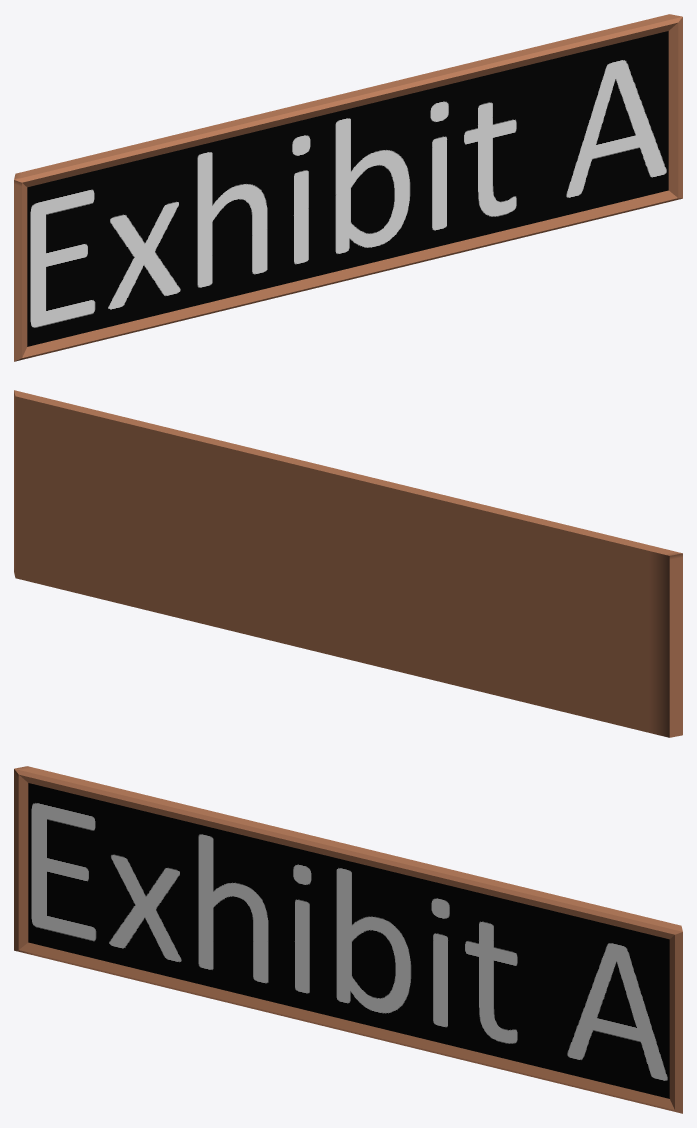
Rendered from wallSign.fbx.
3 renders of one model, top to bottom at view 1: azimuth 30°, elevation 25°; view 2: azimuth 150°, elevation 25°; view 3: azimuth 330°, elevation 25°, orthographic.
Parts seen in each view (by area): view 1: pCube1; view 2: pCube1; view 3: pCube1.
Part boxes in pixels (x1,y1,x2,y2): pCube1: (14,14,682,361); pCube1: (14,390,682,737); pCube1: (14,766,682,1113).
Size of the model in its own units: 132 by 34.27 by 2.6.
Materials: 1 (1 with a texture image).
